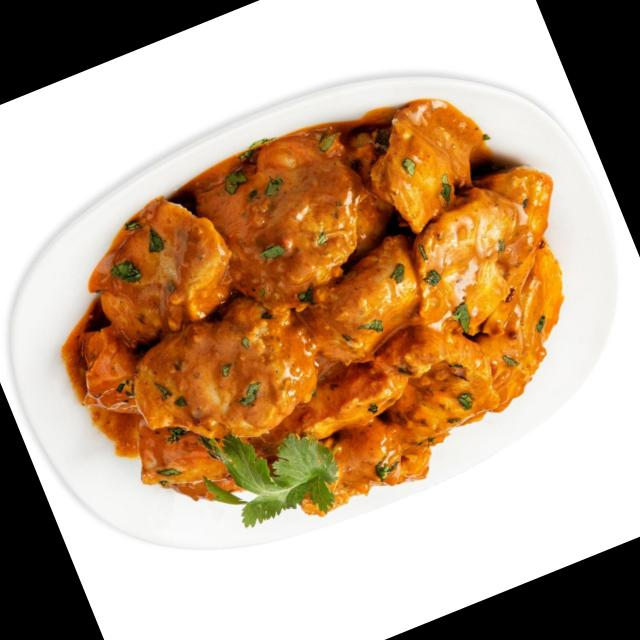chicken: (11, 64, 632, 583)
